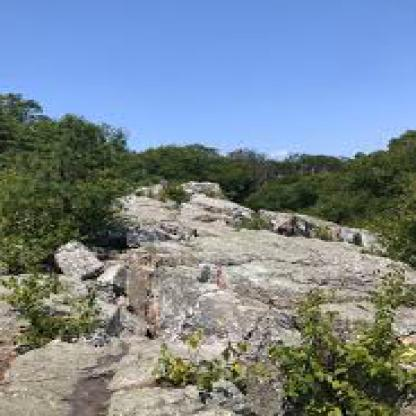Metamorphic_Quartize: (0, 323, 120, 414)
